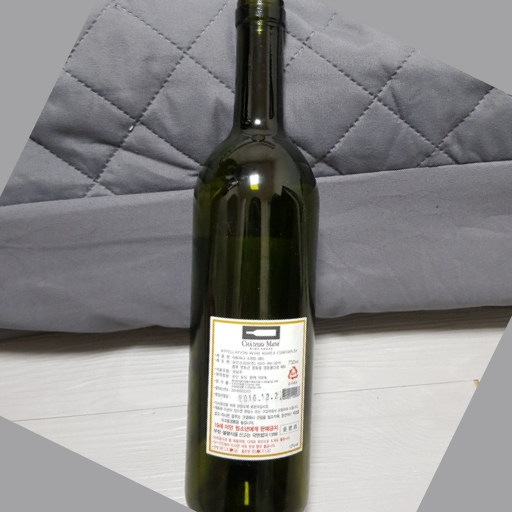Glass_2: (180, 1, 321, 512)
